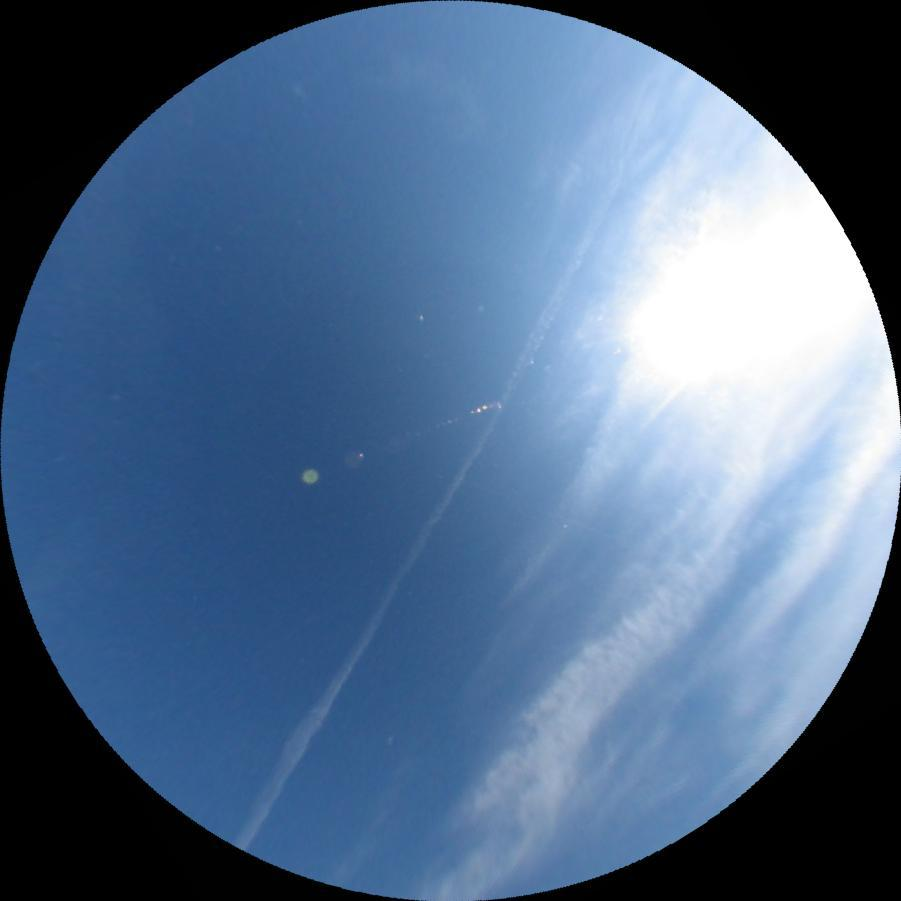contrail old: (232, 57, 694, 856)
sun: (621, 194, 879, 400)
